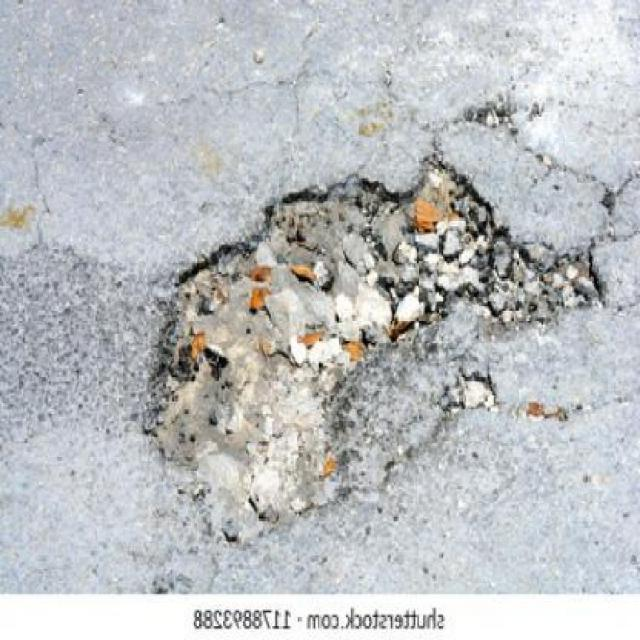pothole: (144, 152, 613, 552)
